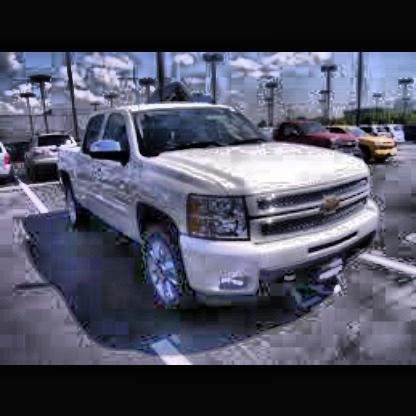Chevrolet Silverado 1500 Hybrid Crew Cab 2012: (57, 103, 383, 313)
